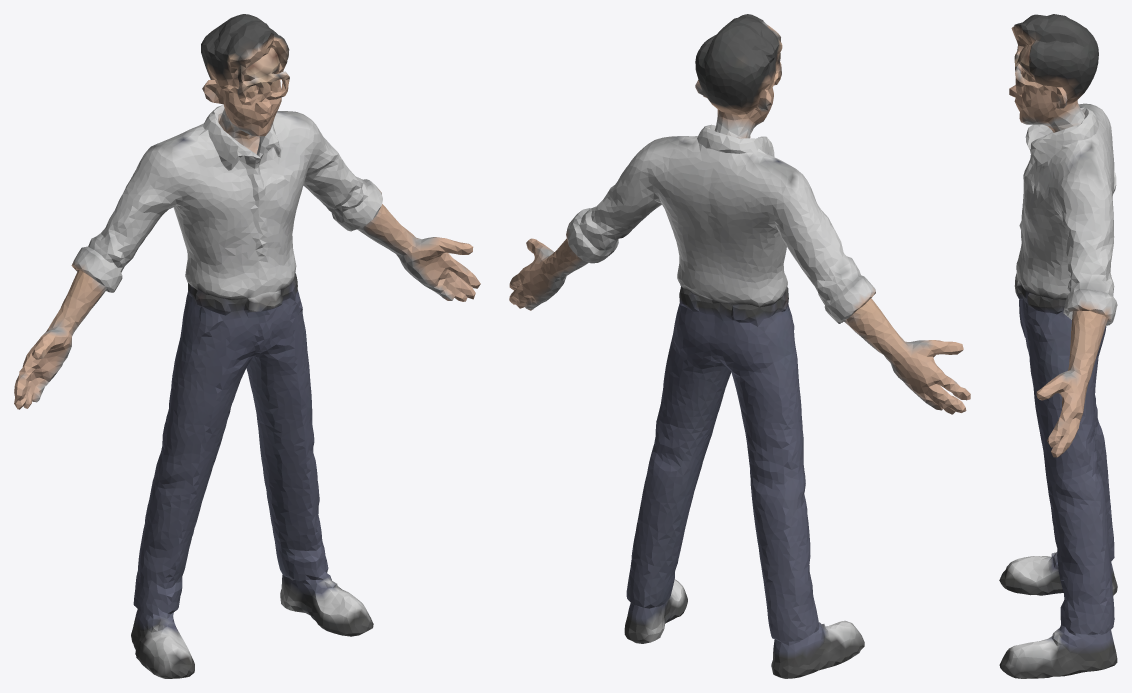
3 renders of one model, left to right at view 1: azimuth 30°, elevation 25°; view 2: azimuth 150°, elevation 25°; view 3: azimuth 270°, elevation 25°, orthographic.
Parts seen in each view (by area): view 1: geometry_0; view 2: geometry_0; view 3: geometry_0.
Boxes of the visible parts, bbox=[...] form: geometry_0: bbox=[14, 14, 480, 678]; geometry_0: bbox=[509, 14, 970, 678]; geometry_0: bbox=[999, 14, 1117, 678].
Bounding box in the file's own units: 0.7799 × 0.9999 × 0.1751.
